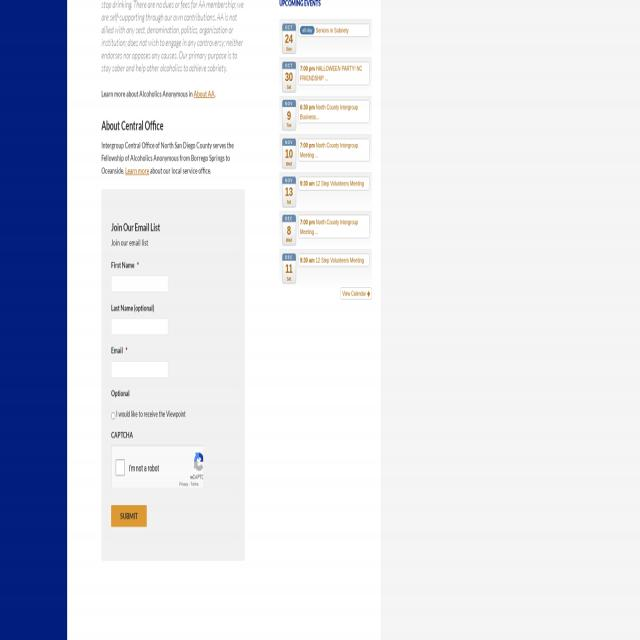button: (111, 505, 147, 527), (282, 100, 296, 131), (282, 215, 296, 246), (282, 253, 296, 284), (282, 62, 296, 93), (282, 139, 296, 169), (282, 177, 296, 207), (282, 24, 296, 54), (341, 288, 372, 299)
field: (112, 318, 168, 336), (112, 361, 168, 378), (112, 276, 168, 292), (115, 460, 125, 476), (112, 411, 116, 421)
